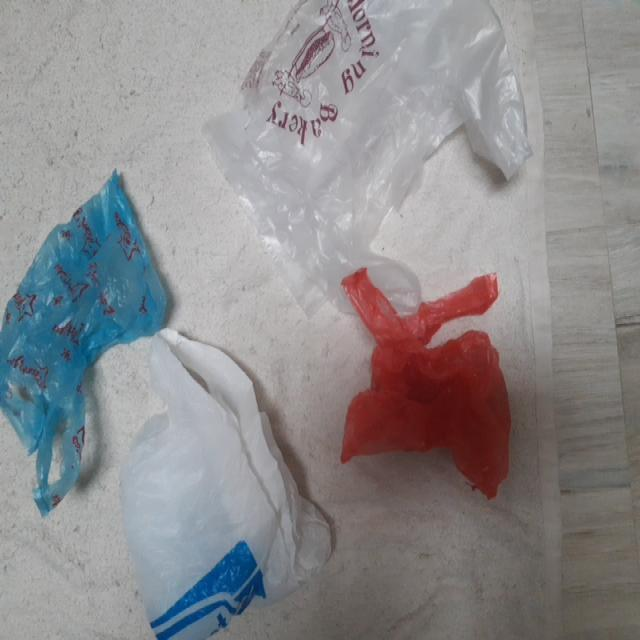Single-layer Plastic: (208, 0, 531, 312), (122, 329, 331, 639), (0, 172, 168, 514), (341, 269, 511, 498)
